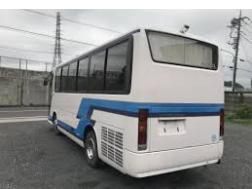bus: (45, 26, 225, 182)
